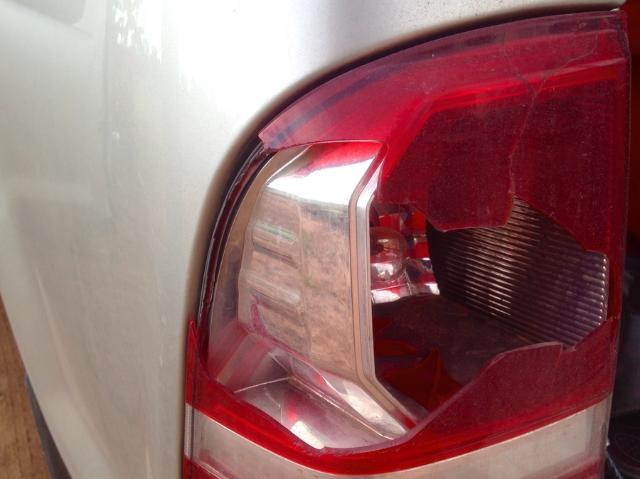Light: (212, 71, 614, 479)
